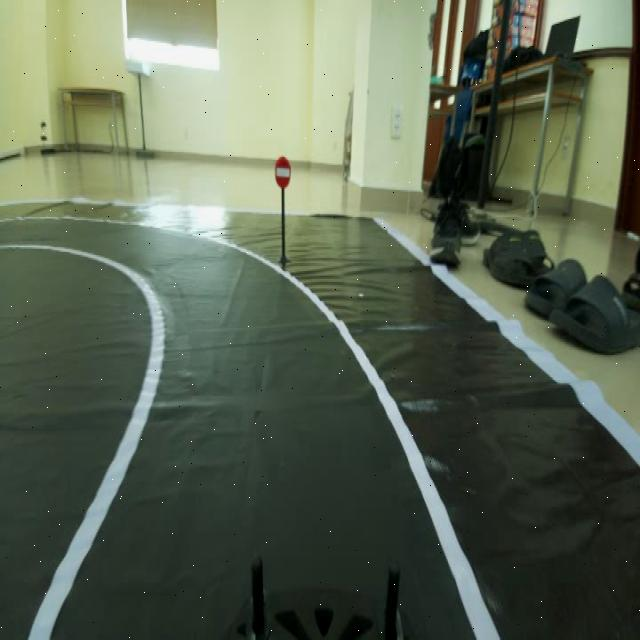no_entry: (270, 151, 297, 198)
